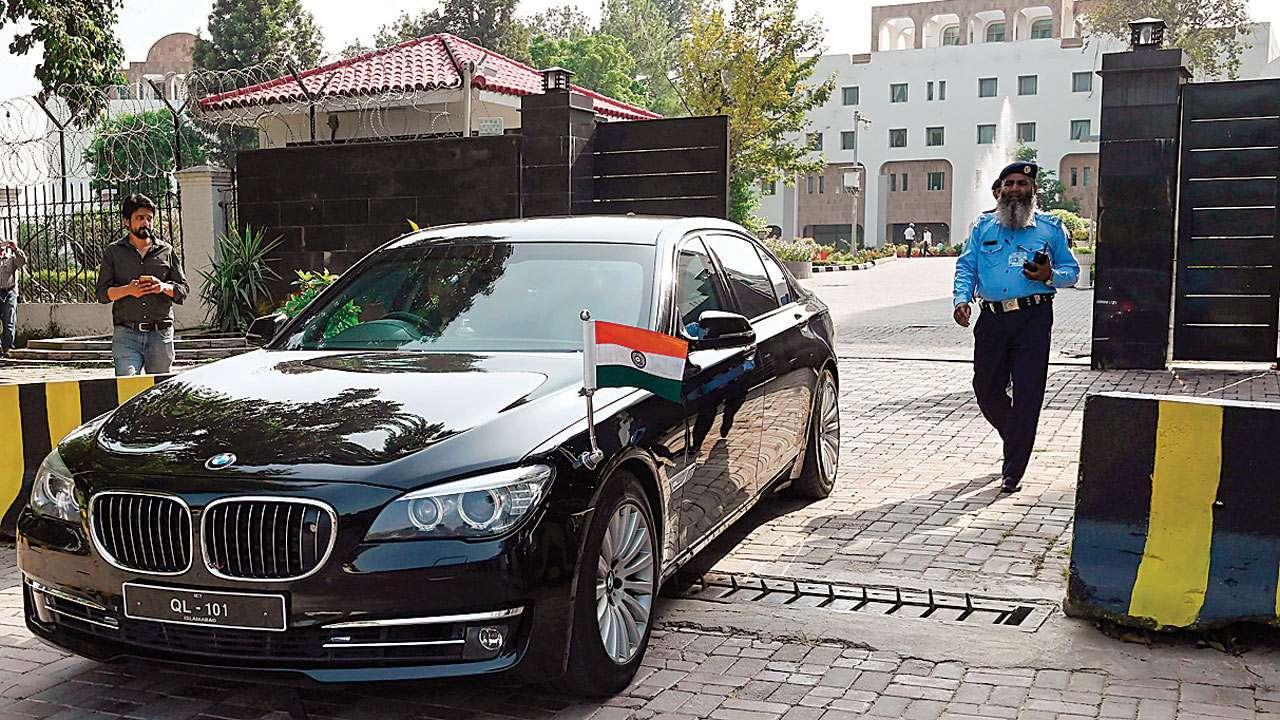car: (1, 143, 861, 720)
